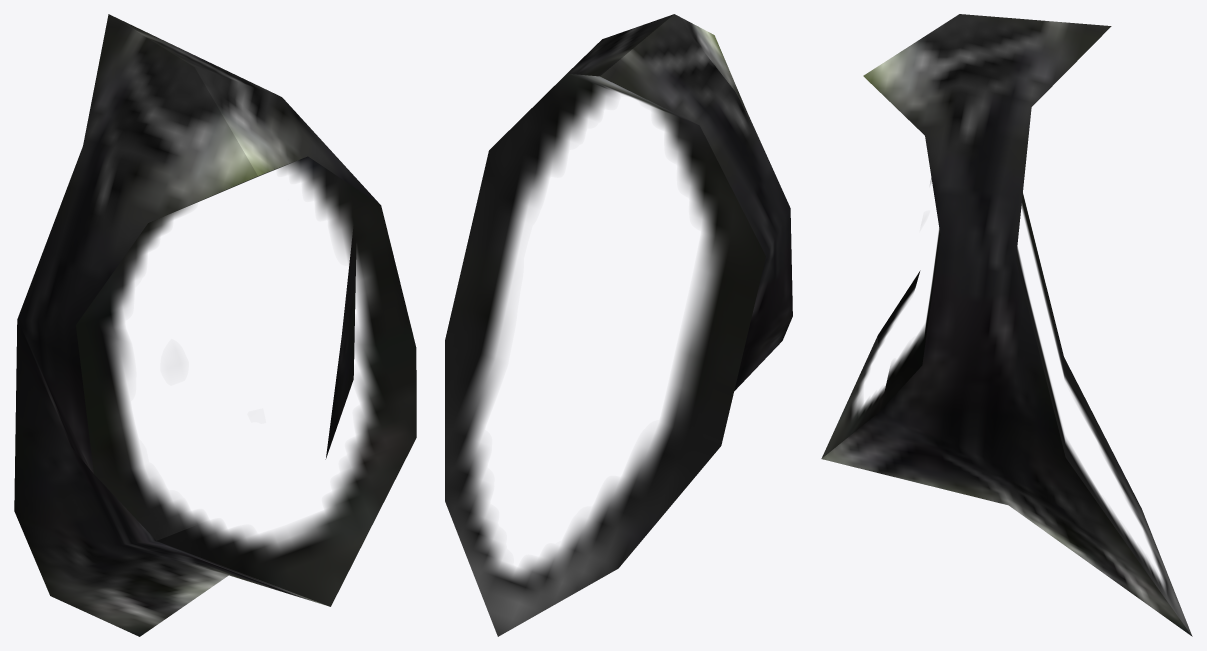
The model's file is shadow_knight_7_ankle_left.glb.
3 renders of one model, left to right at view 1: azimuth 30°, elevation 25°; view 2: azimuth 150°, elevation 25°; view 3: azimuth 270°, elevation 25°, orthographic. The views are drawn at different scales.
Parts seen in each view (by area): view 1: model_shadow_knight_7_ankle_left; view 2: model_shadow_knight_7_ankle_left; view 3: model_shadow_knight_7_ankle_left.
Boxes of the visible parts, x1,y1,x2,y2 form: model_shadow_knight_7_ankle_left: (14,14,416,636); model_shadow_knight_7_ankle_left: (445,14,792,636); model_shadow_knight_7_ankle_left: (821,14,1192,636).
Bounding box in the file's own units: 0.1743 × 0.3134 × 0.1791.
Materials: 1 (1 with a texture image).
